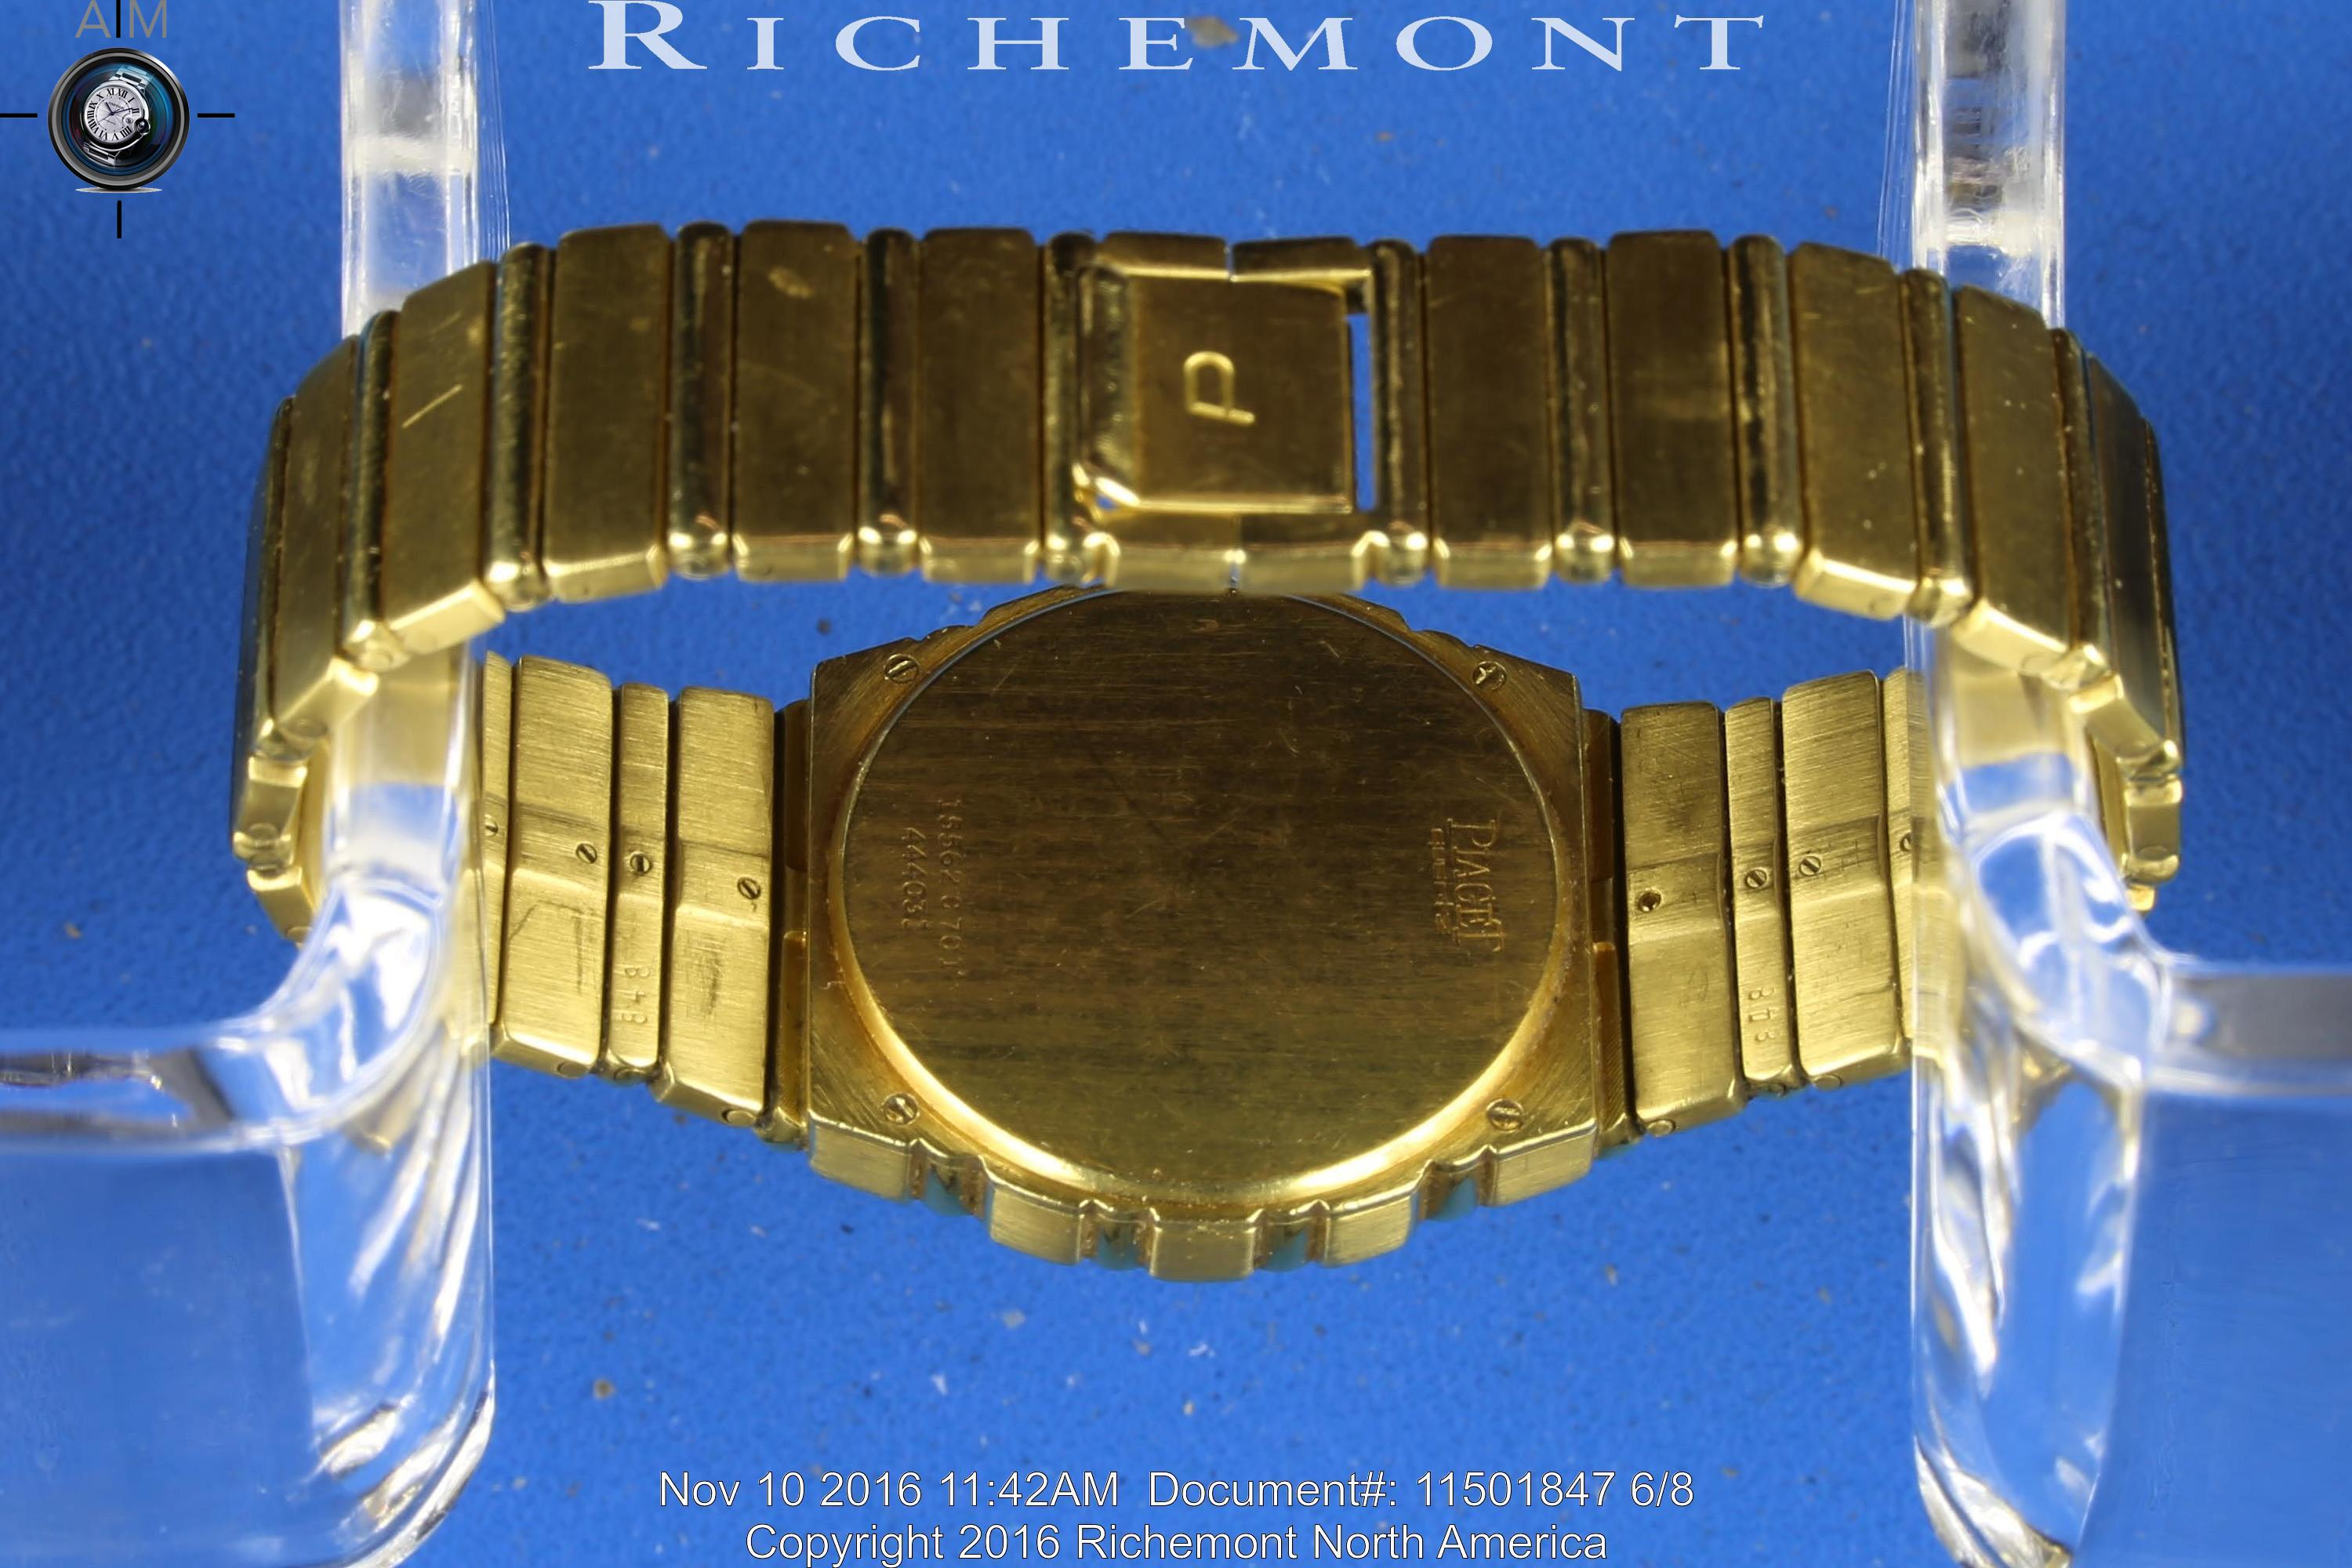Watch BackCase: (793, 588, 1613, 1298)
